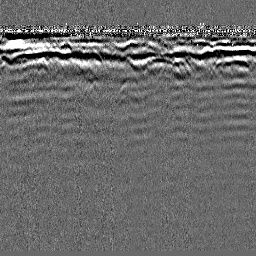cavity: (113, 77, 143, 100)
